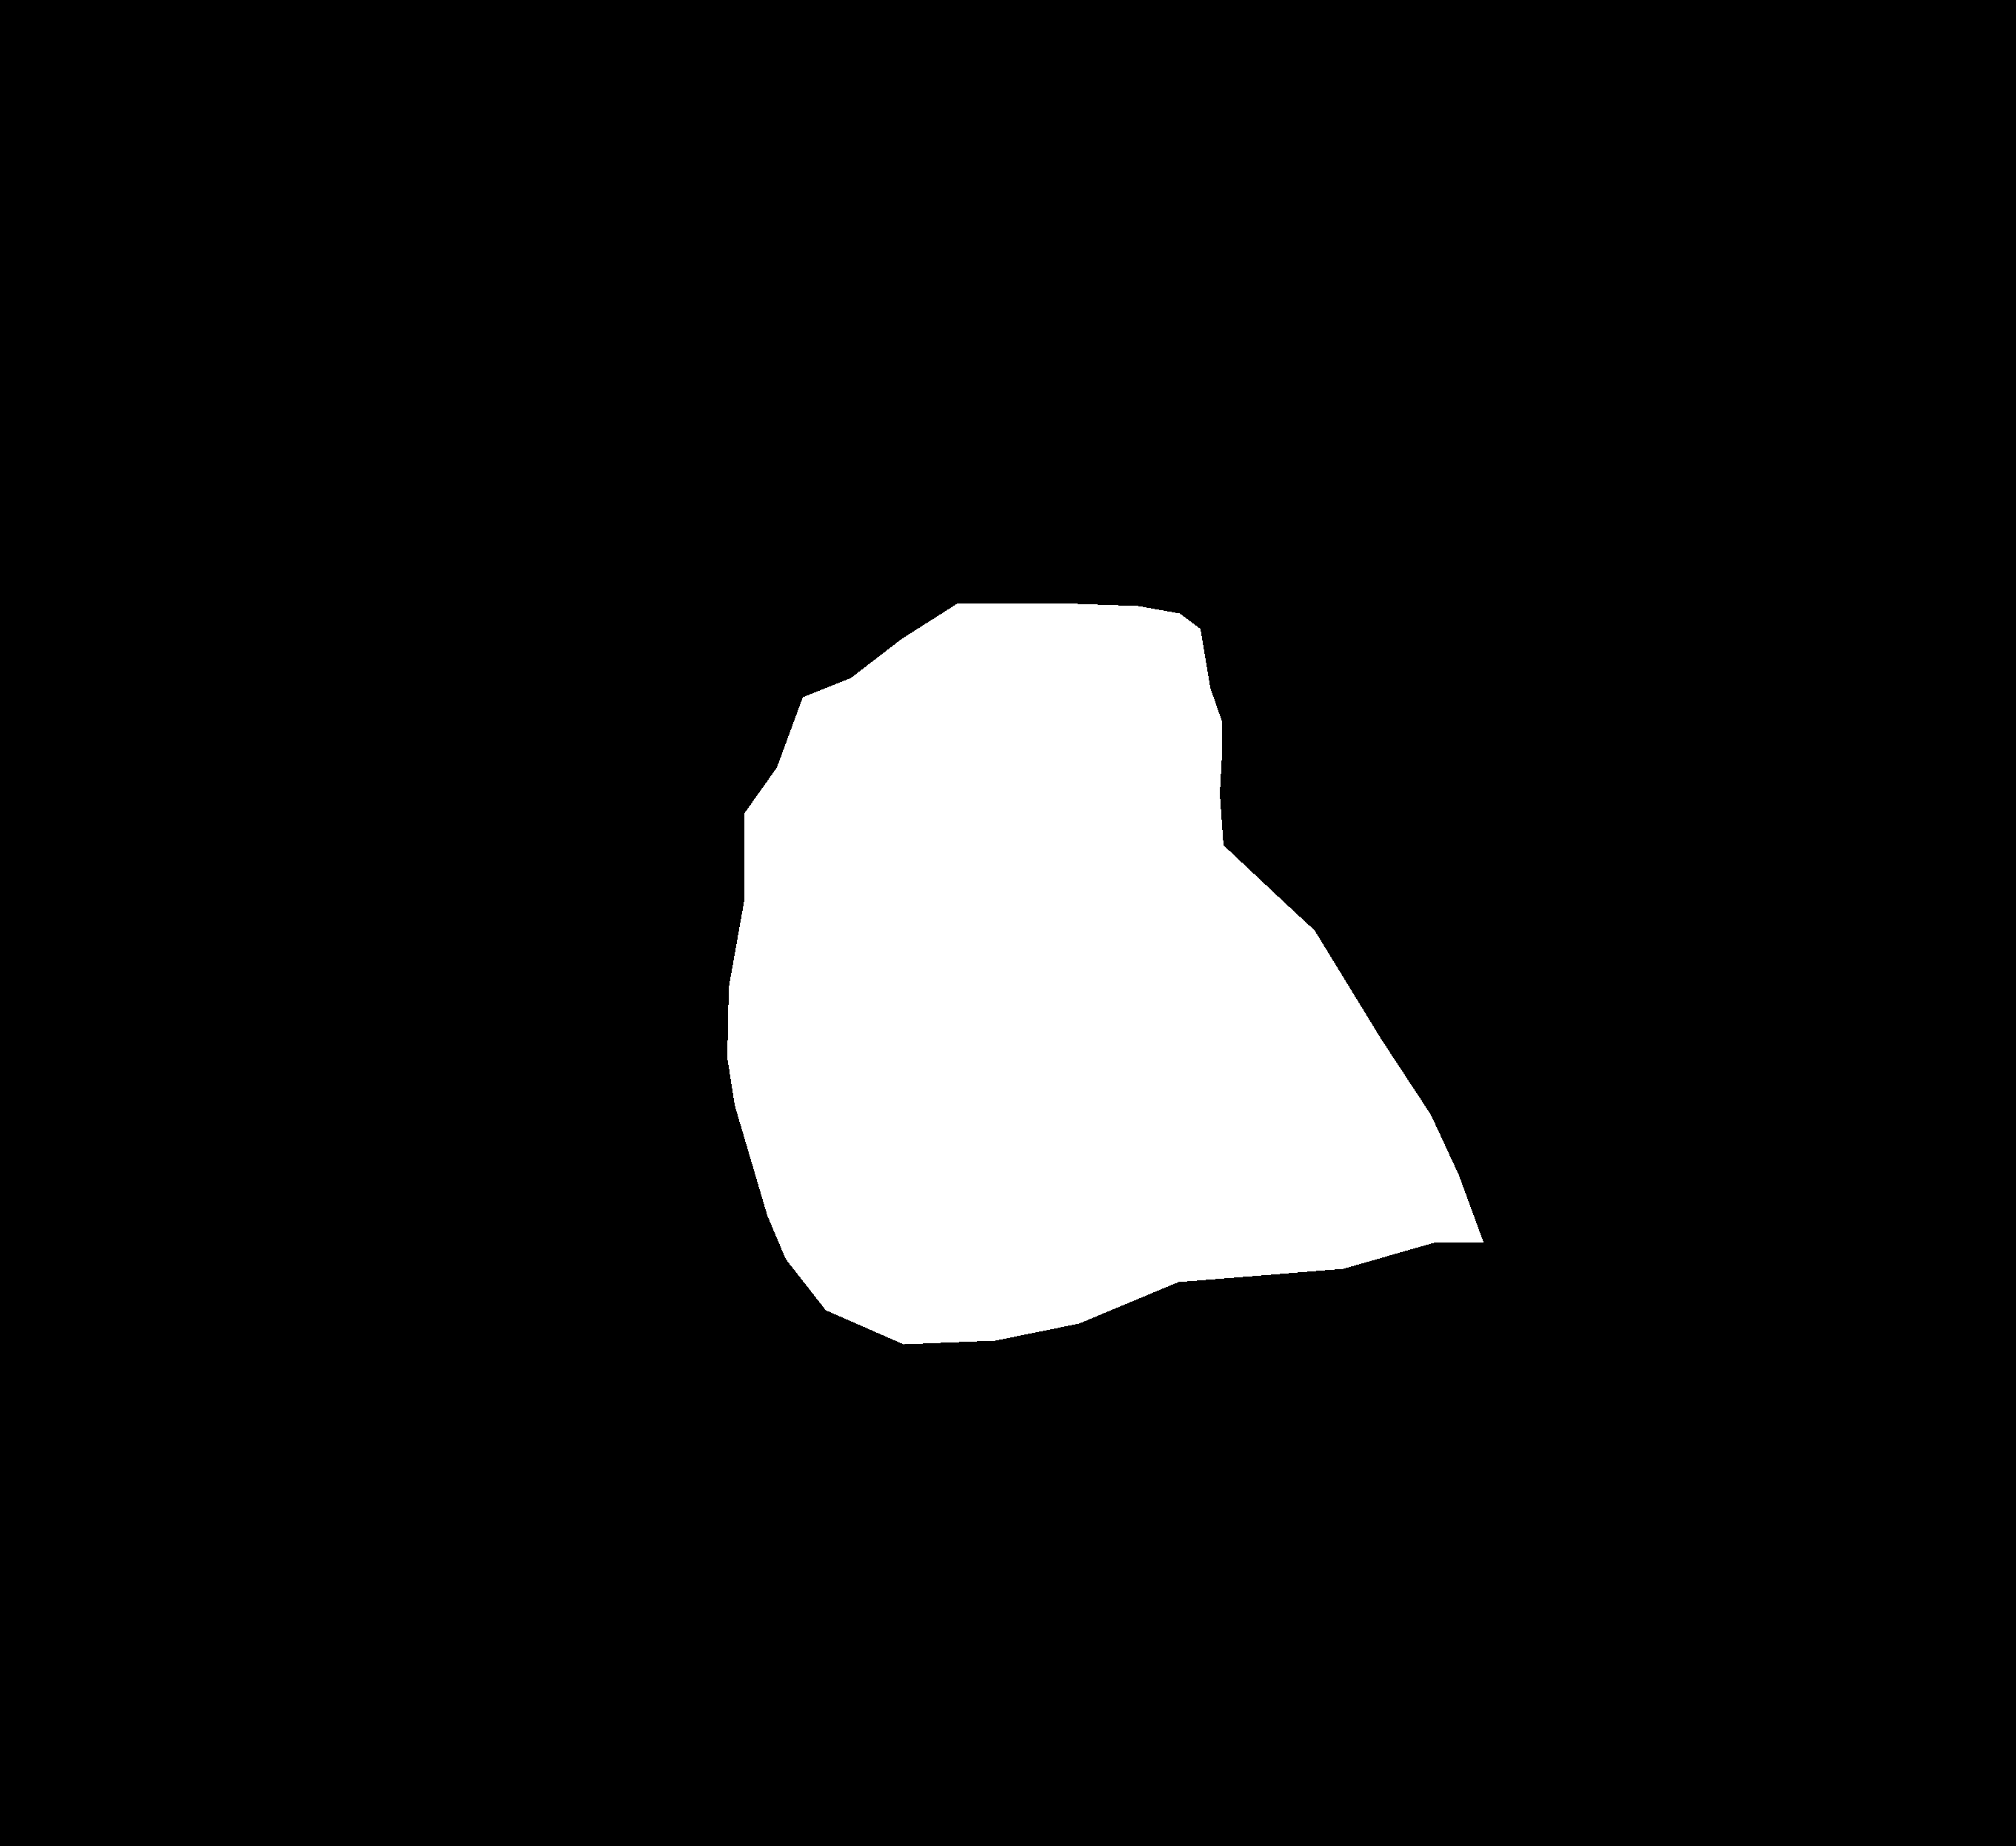heart: (727, 604, 1482, 1344)
left_lung: (249, 155, 954, 1354)
right_lung: (1134, 190, 1804, 1460)
